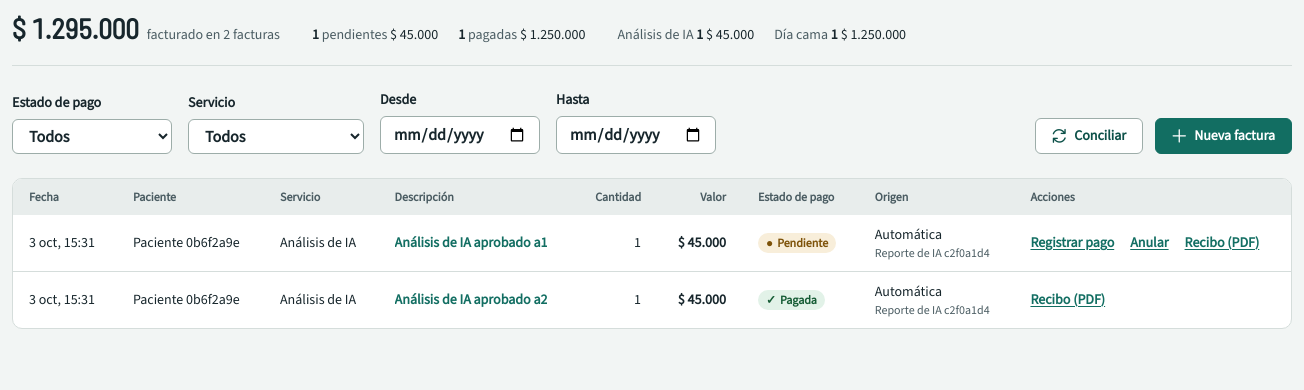
Test: billing screen › shows the reconciliation counts
The image size is (1304, 390).
Click the button "Conciliar".
click(1089, 136)  # box x1=1035 y1=118 x2=1143 y2=154
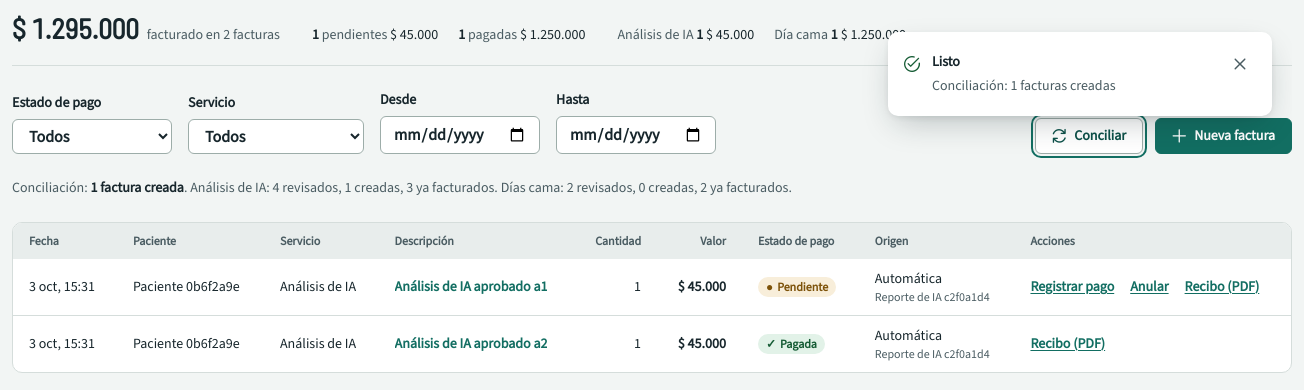
Expected: the text "1 factura creada" is shown, x1=90 y1=178 x2=184 y2=197
Expected: the text "4 revisados, 1 creadas, 3 ya facturados" is shown, x1=12 y1=178 x2=792 y2=197
